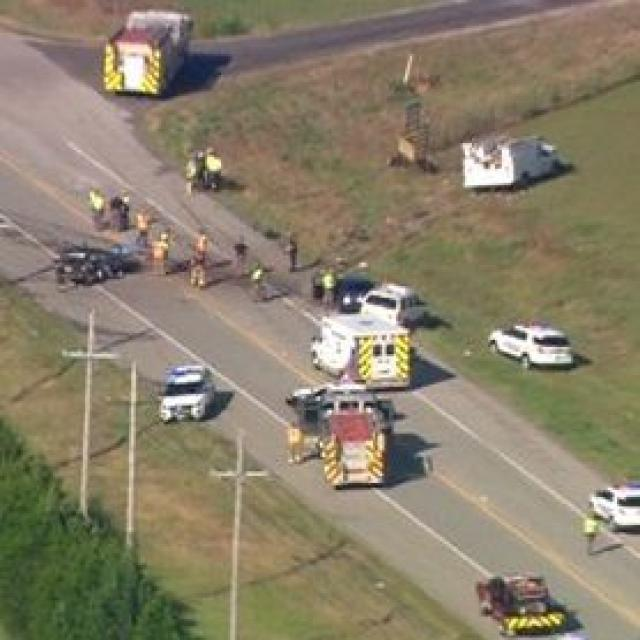traffic_incident: (42, 232, 134, 293)
